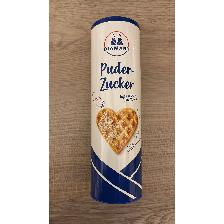Zucker: (89, 14, 145, 205)
